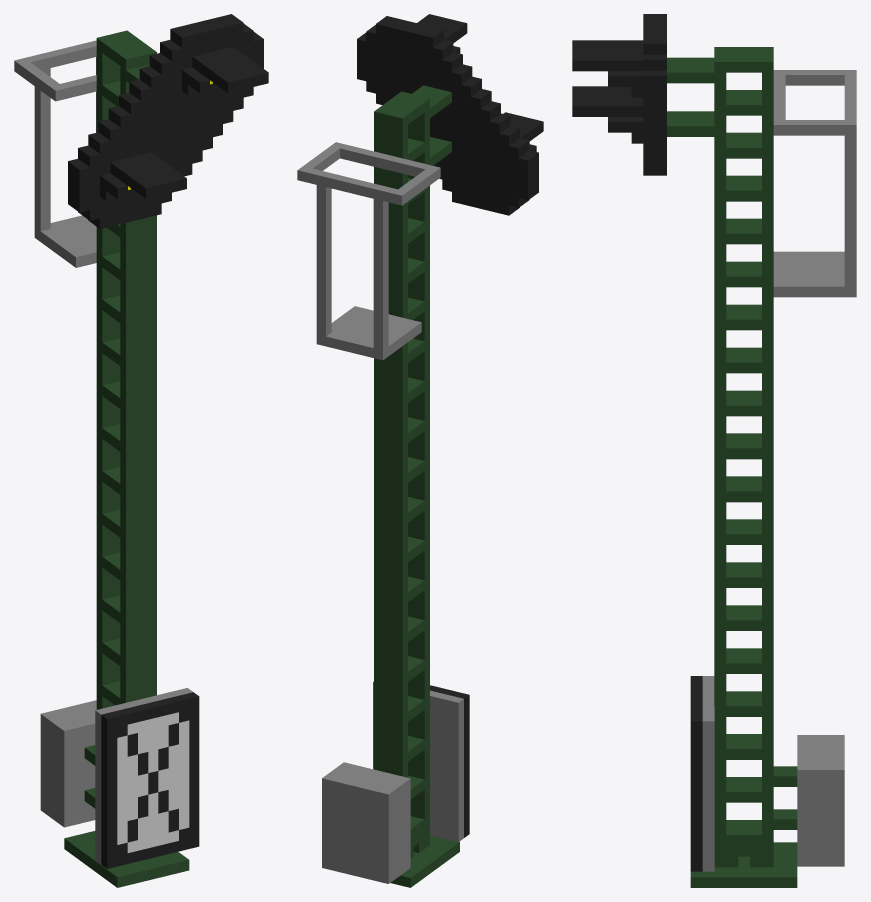
File: vr0_hv_vorsignal.obj
3 views of the same model, side by side, from view 1: azimuth 30°, elevation 25°; view 2: azimuth 150°, elevation 25°; view 3: azimuth 270°, elevation 25° (orthographic). The views are drawn at different scales.
Visible parts, largest first — view 1: Polygon-Objekt; view 2: Polygon-Objekt; view 3: Polygon-Objekt.
Part boxes in pixels (x1,y1,x2,y2): Polygon-Objekt: (14, 14, 268, 887); Polygon-Objekt: (297, 14, 543, 887); Polygon-Objekt: (572, 14, 856, 887).
Bounding box in the file's own units: 0.9 × 4 × 1.2.
1 material, 1 textured.
